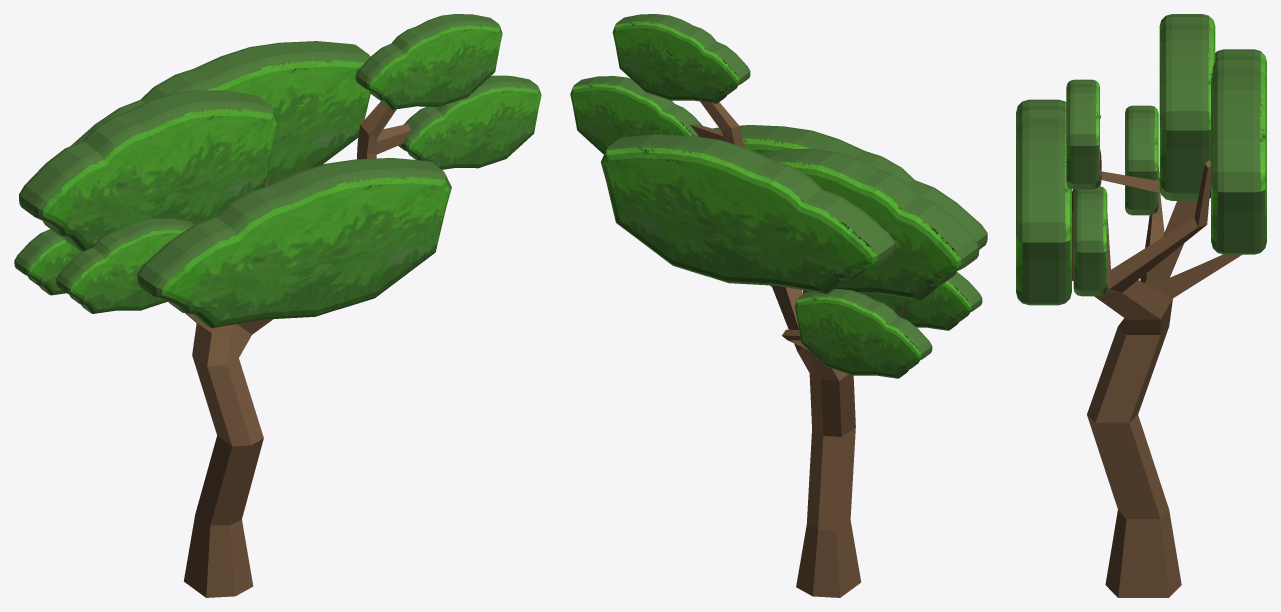
File: Tree.fbx
3 views of the same model, side by side, from view 1: azimuth 30°, elevation 25°; view 2: azimuth 150°, elevation 25°; view 3: azimuth 270°, elevation 25° (orthographic). The views are drawn at different scales.
Visible parts, largest first — view 1: Leaf.007; view 2: Leaf.007; view 3: Leaf.007.
Part boxes in pixels (<box>): Leaf.007: <box>14,14,541,597</box>; Leaf.007: <box>570,14,987,597</box>; Leaf.007: <box>1016,14,1266,597</box>.
Size of the model in its own units: 1456 by 1598 by 603.
